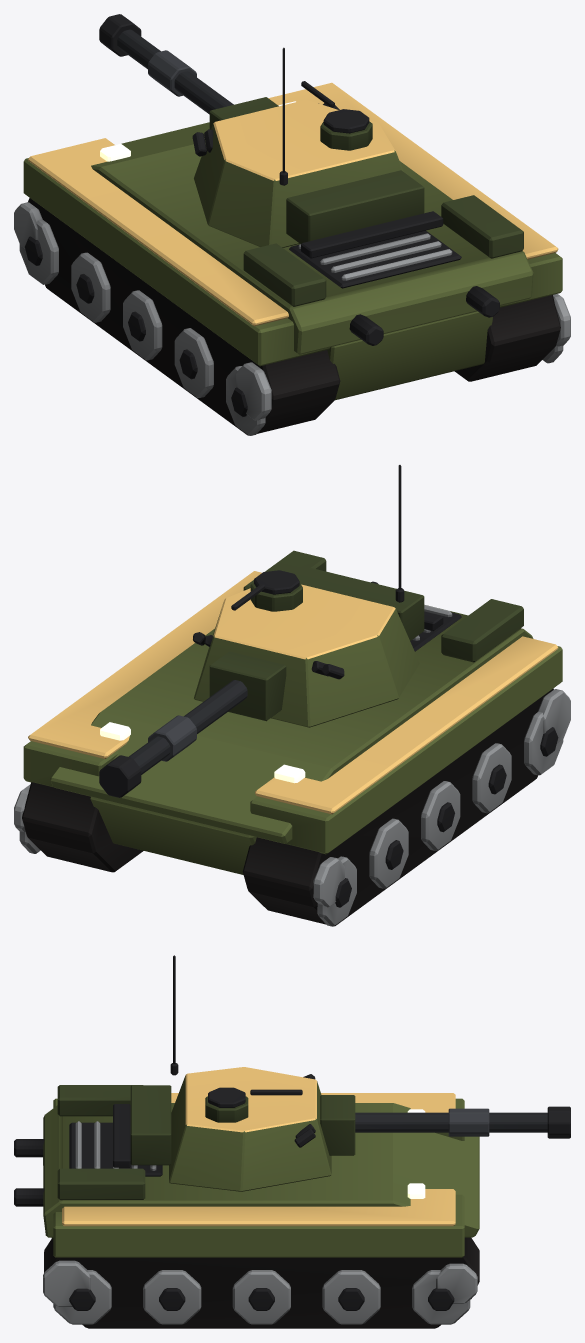
File: tank_light.glb
3 renders of one model, top to bottom at view 1: azimuth 30°, elevation 25°; view 2: azimuth 150°, elevation 25°; view 3: azimuth 270°, elevation 25°, orthographic. The views are drawn at different scales.
Parts seen in each view (by area): view 1: tank_light, Turret; view 2: tank_light, Turret; view 3: tank_light, Turret.
Boxes of the visible parts, <box> form: tank_light: <box>14,82,570,435</box>; Turret: <box>99,14,443,258</box>; tank_light: <box>14,550,570,926</box>; Turret: <box>99,465,443,797</box>; tank_light: <box>14,1085,479,1328</box>; Turret: <box>113,955,570,1191</box>.
Bounding box in the file's own units: 1.08 × 1.09 × 1.91.
